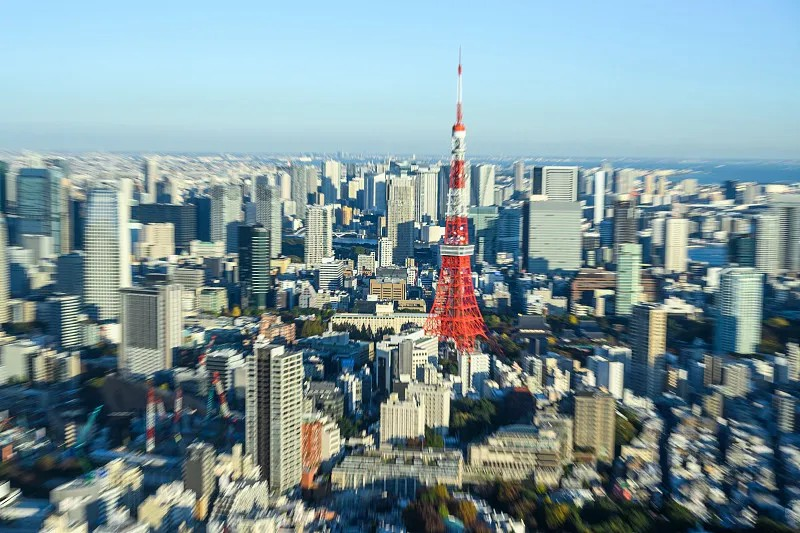Tokyo: (424, 41, 496, 352)
